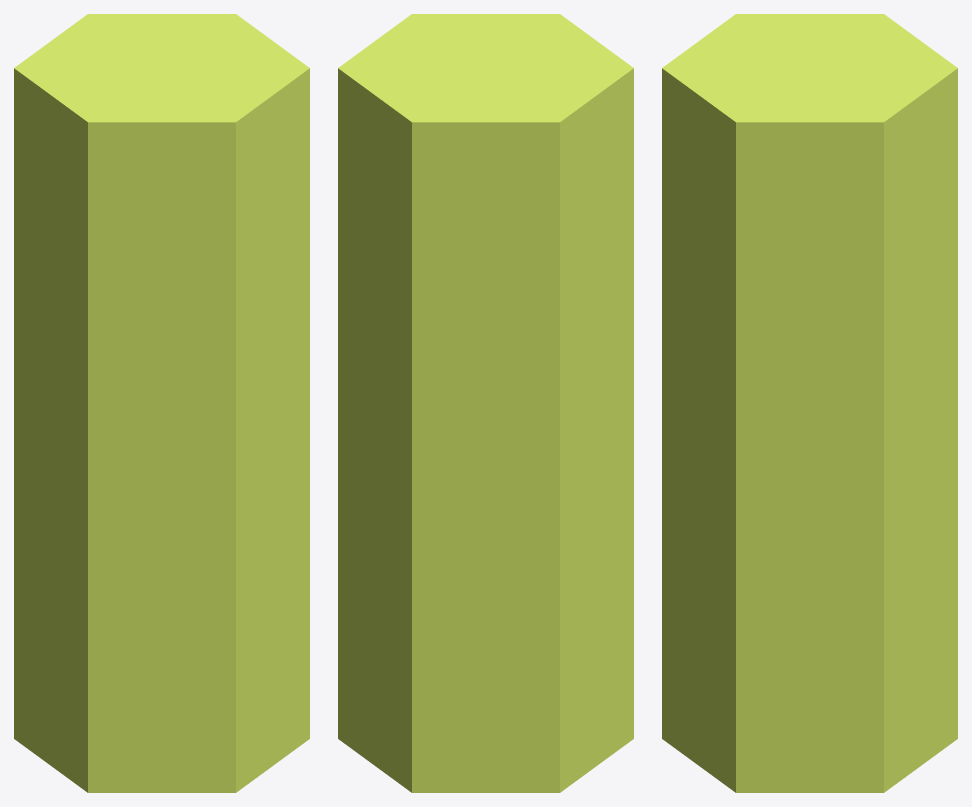
3 renders of one model, left to right at view 1: azimuth 30°, elevation 25°; view 2: azimuth 150°, elevation 25°; view 3: azimuth 270°, elevation 25°, orthographic.
Parts seen in each view (by area): view 1: 平原; view 2: 平原; view 3: 平原.
Part boxes in pixels (box(x1,y1,x2,y2)): 平原: box(14, 14, 309, 792); 平原: box(338, 14, 633, 792); 平原: box(662, 14, 957, 792).
Bounding box in the file's own units: 400 × 346 × 1000.
